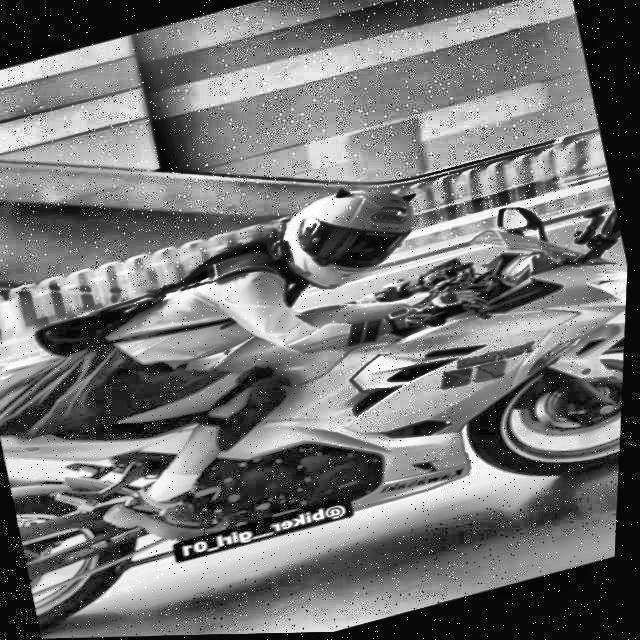Helmet: (259, 171, 436, 310)
